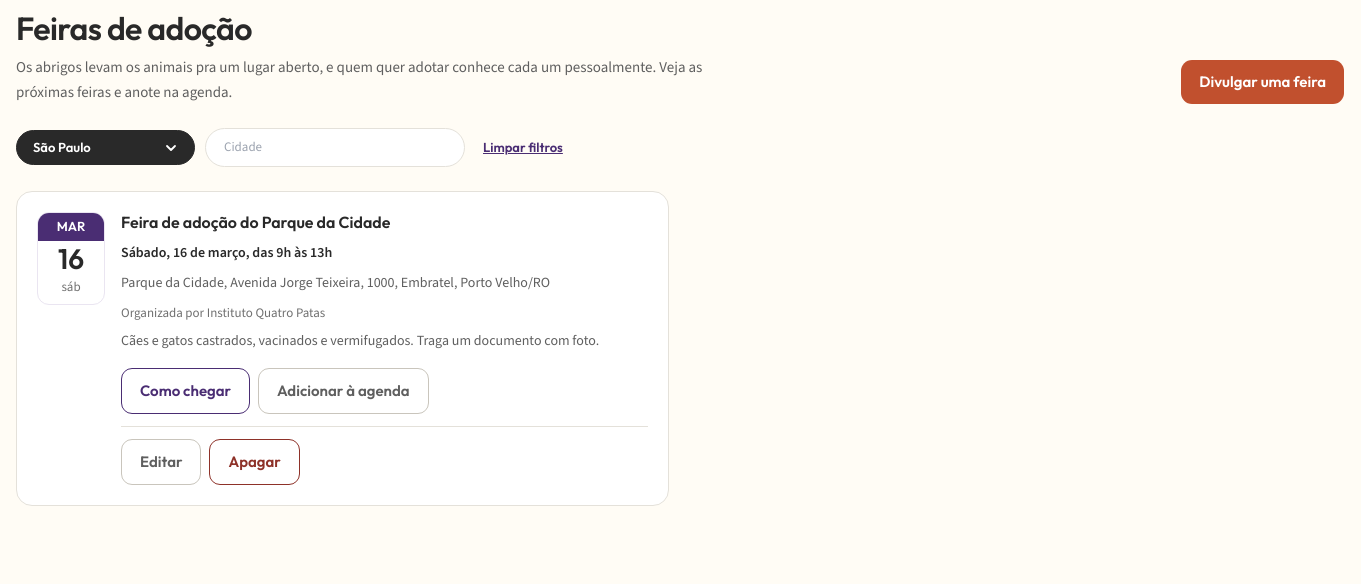
Scenario: abrigo › se não der pra apagar, a mensagem aparece no card
Click the button "Apagar".
click(255, 462)  # box [210,440,300,486]
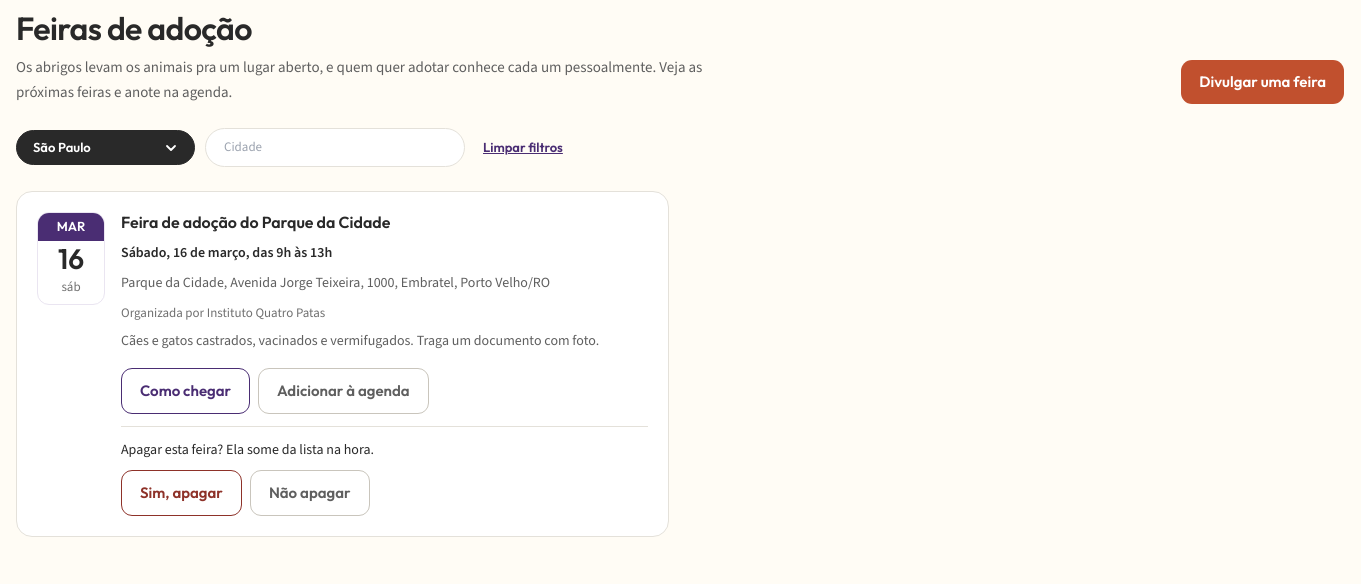
Click the button "Sim, apagar".
click(181, 493)  # box [121,470,242,516]
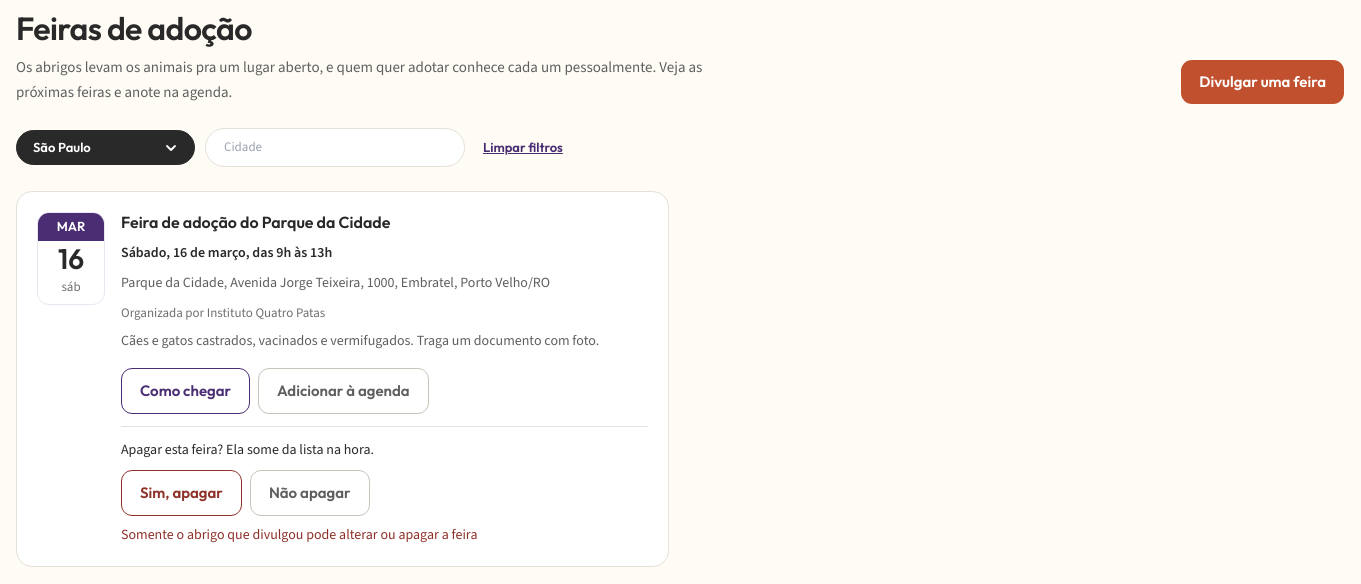
Check: the message reads "Somente o abrigo que divulgou pode alterar ou apagar a feira", box [121,525,478,544]
